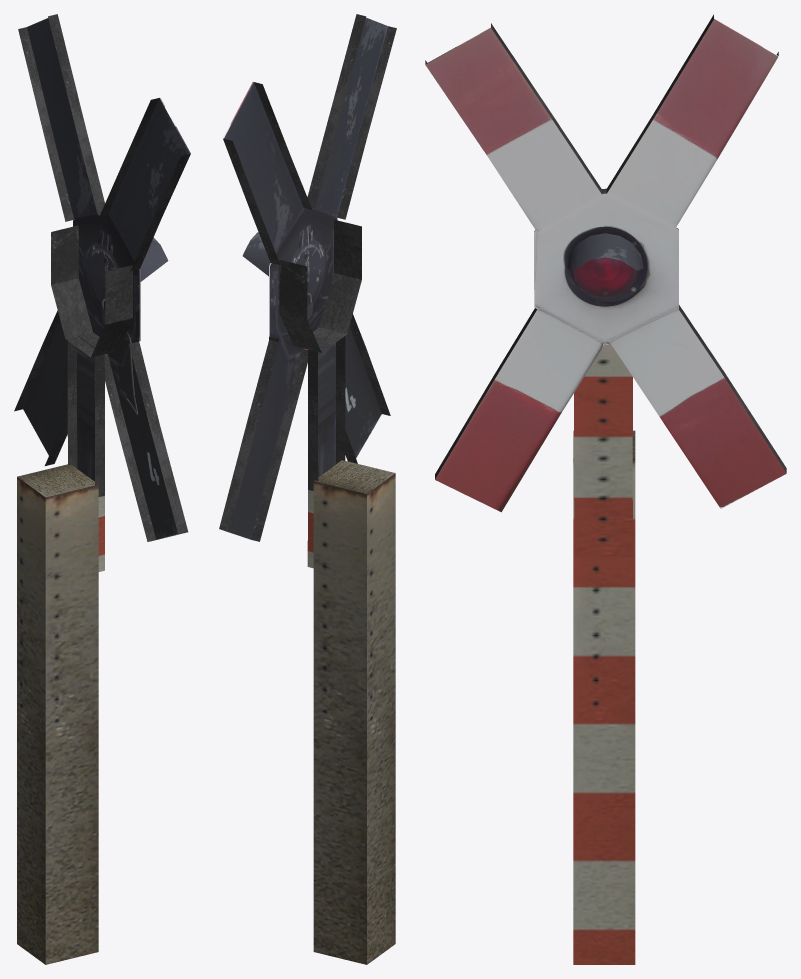
File: andreaskreuz.obj
The picture shows the model from 3 angles, left to right: view 1: azimuth 30°, elevation 25°; view 2: azimuth 150°, elevation 25°; view 3: azimuth 270°, elevation 25°; orthographic projection. The views are drawn at different scales.
Parts seen in each view (by area): view 1: andreaskreuz; view 2: andreaskreuz; view 3: andreaskreuz.
Boxes of the visible parts, x1,y1,x2,y2 form: andreaskreuz: (14,14,190,964); andreaskreuz: (219,14,396,964); andreaskreuz: (425,14,786,964).
Bounding box in the file's own units: 0.3301 × 2.28 × 0.7778.
1 material, 1 textured.
